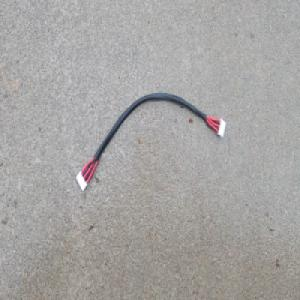Wire: (74, 89, 227, 193)
